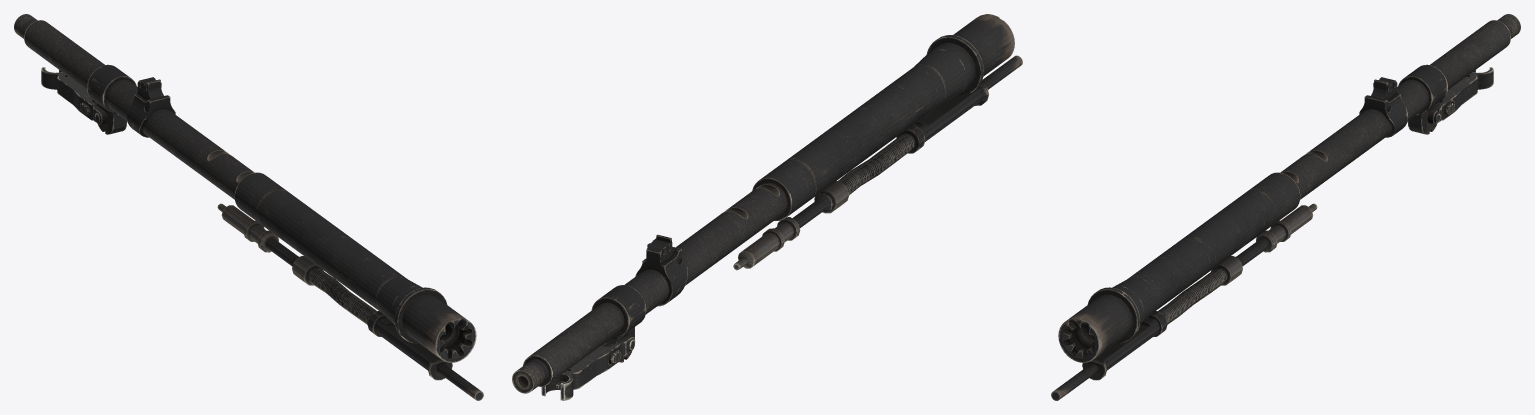
3 renders of one model, left to right at view 1: azimuth 30°, elevation 25°; view 2: azimuth 150°, elevation 25°; view 3: azimuth 330°, elevation 25°, orthographic. The views are drawn at different scales.
Visible parts, largest first — view 1: TW_5bb20da5d4351e0035629dbf_folded_PZ_Import; view 2: TW_5bb20da5d4351e0035629dbf_folded_PZ_Import; view 3: TW_5bb20da5d4351e0035629dbf_folded_PZ_Import.
Part boxes in pixels (x1,y1,x2,y2): TW_5bb20da5d4351e0035629dbf_folded_PZ_Import: [14, 14, 483, 400]; TW_5bb20da5d4351e0035629dbf_folded_PZ_Import: [512, 14, 1022, 400]; TW_5bb20da5d4351e0035629dbf_folded_PZ_Import: [1051, 14, 1520, 400].
Bounding box in the file's own units: 0.017 × 0.2643 × 0.0284.
Materials: 1 (1 with a texture image).
